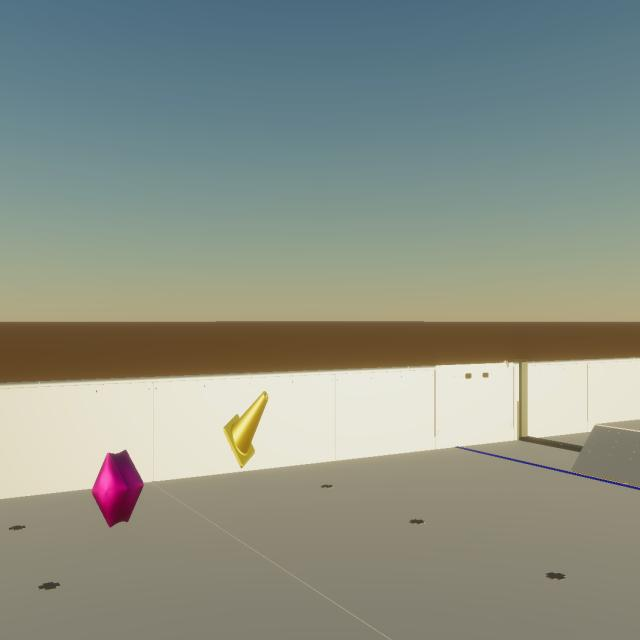frc_cone: (223, 391, 268, 468)
frc_cube: (92, 450, 144, 527)
